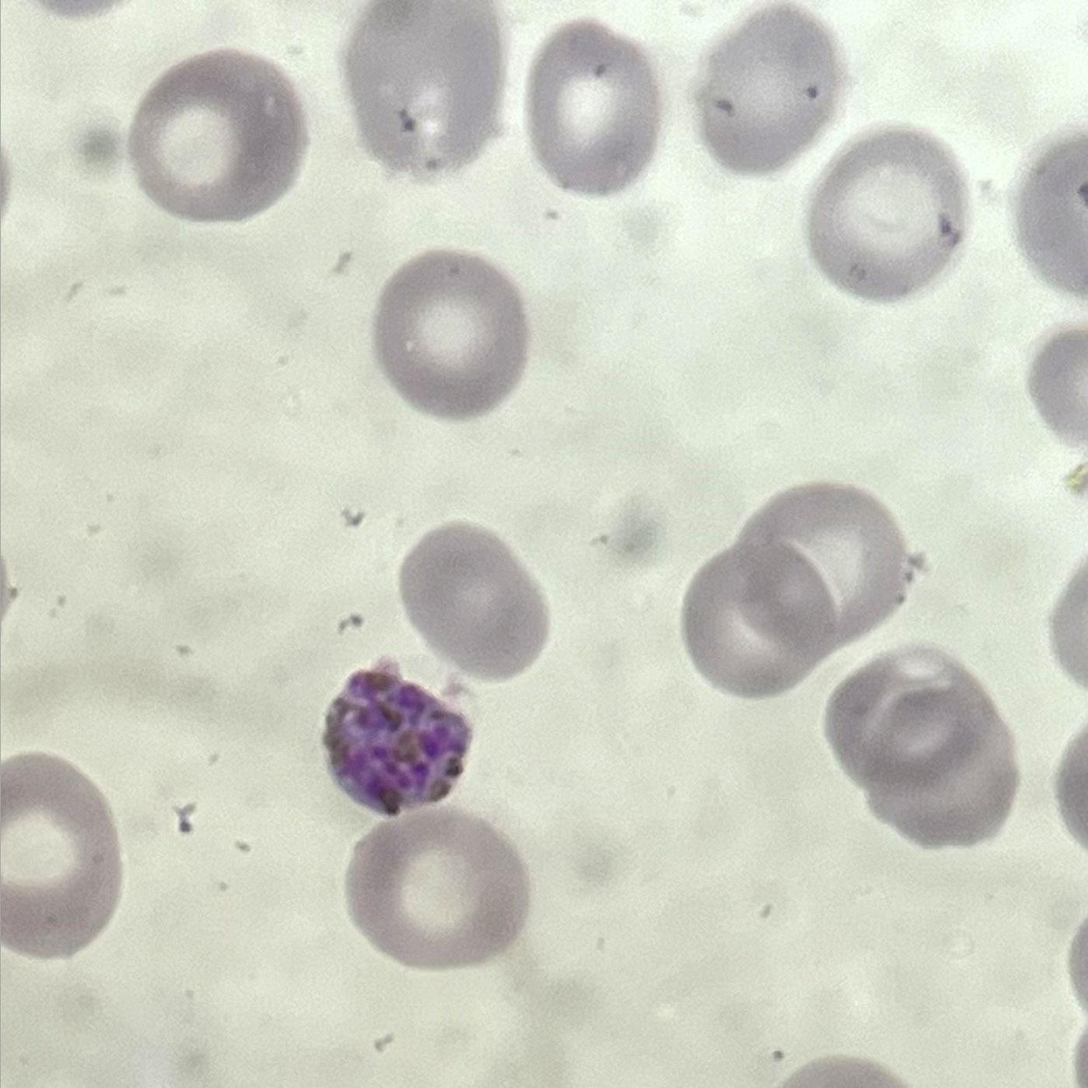Infected: (321, 662, 468, 814)
Uninfected: (130, 42, 306, 219), (798, 125, 964, 302), (347, 810, 525, 975), (736, 478, 900, 648), (349, 0, 503, 180), (394, 519, 550, 687), (0, 753, 124, 962), (378, 250, 531, 418), (524, 19, 657, 202), (700, 0, 835, 179), (823, 645, 989, 790), (871, 693, 1008, 854), (687, 548, 826, 694)
